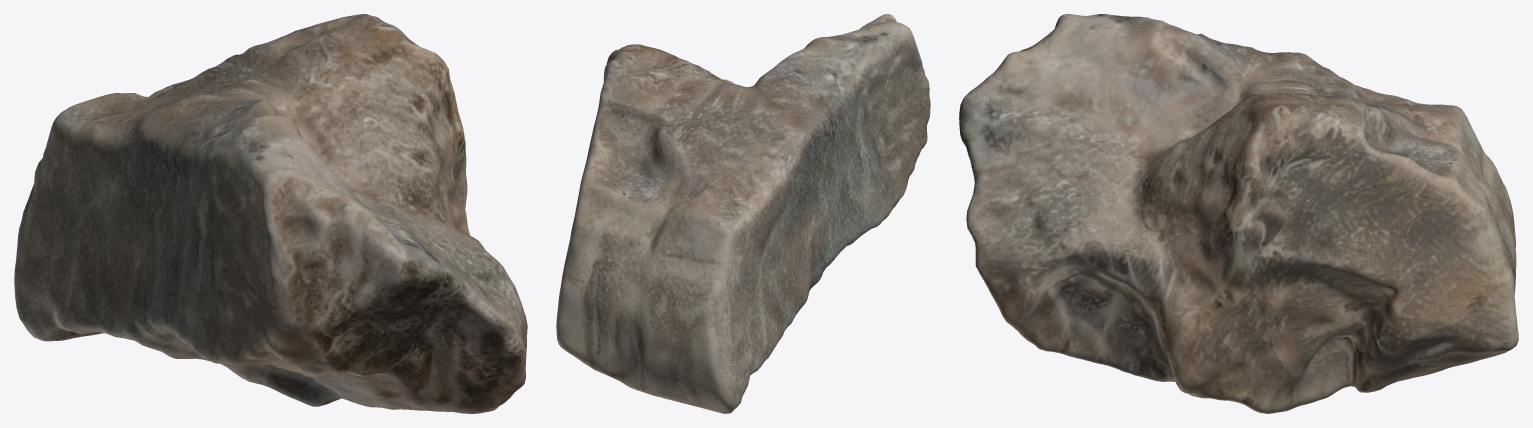
3 renders of one model, left to right at view 1: azimuth 30°, elevation 25°; view 2: azimuth 150°, elevation 25°; view 3: azimuth 270°, elevation 25°, orthographic. The views are drawn at different scales.
Parts seen in each view (by area): view 1: tripo_node_3bd06897-1187-47c4-ab4e-da216d8f69b6; view 2: tripo_node_3bd06897-1187-47c4-ab4e-da216d8f69b6; view 3: tripo_node_3bd06897-1187-47c4-ab4e-da216d8f69b6.
Part boxes in pixels (left/top/right/bottom): tripo_node_3bd06897-1187-47c4-ab4e-da216d8f69b6: left=14, top=14, right=527, bottom=413; tripo_node_3bd06897-1187-47c4-ab4e-da216d8f69b6: left=556, top=14, right=930, bottom=413; tripo_node_3bd06897-1187-47c4-ab4e-da216d8f69b6: left=959, top=14, right=1518, bottom=413.
Bounding box in the file's own units: 0.5456 × 0.6108 × 0.9482.
Materials: 1 (1 with a texture image).
